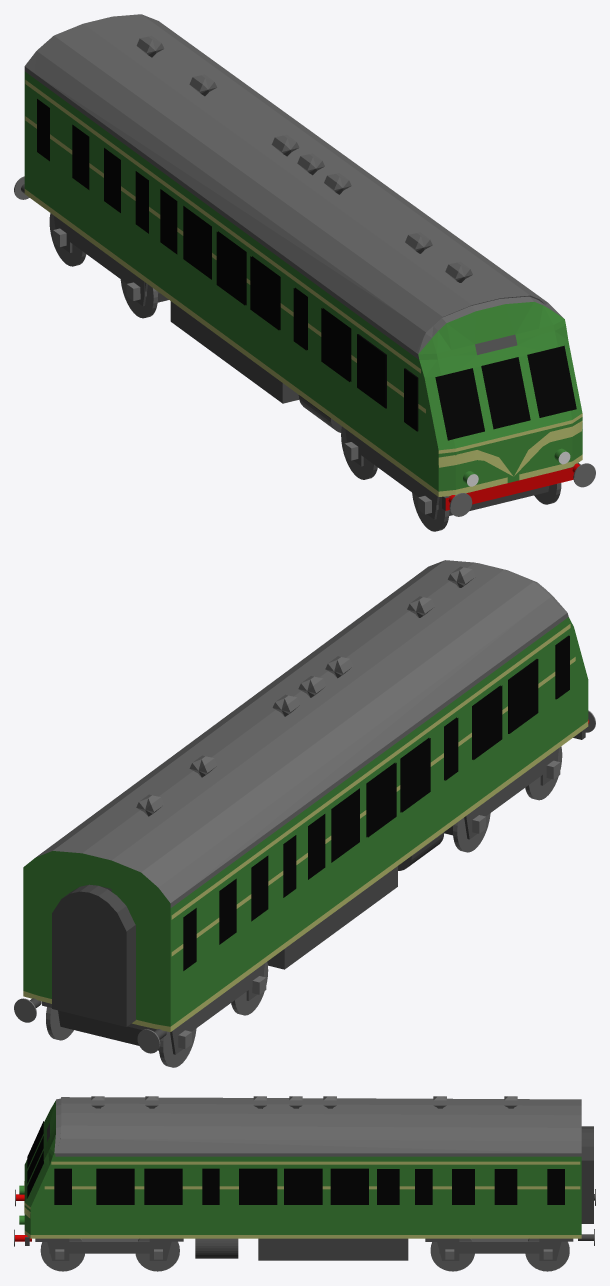
Rendered from BR-101-dmbs-g.dae.
3 renders of one model, top to bottom at view 1: azimuth 30°, elevation 25°; view 2: azimuth 150°, elevation 25°; view 3: azimuth 270°, elevation 25°, orthographic. The views are drawn at different scales.
Parts seen in each view (by area): view 1: BR-cl101-front_rear, Cube_001, Plane_003, Cube_063_002, Plane_032, Cube_043, Cube_043_001, Plane_002; view 2: BR-cl101-front_rear, Cube, Cube_001, Plane_003, Cube_060_001, Cube_043_001, Cube_043, Plane_002, Cylinder_008_001, Cylinder_008; view 3: BR-cl101-front_rear, Cube_001, Plane_004, Cube_043, Cube_043_001, Cube, Cylinder_002, Plane_001, Cylinder_011_001, Cylinder_011, Cylinder_010_001, Cylinder_010 (+4 smaller).
Boxes of the visible parts, <box> form: BR-cl101-front_rear: <box>24,14,582,496</box>; Cube_001: <box>170,301,298,403</box>; Plane_003: <box>25,80,420,373</box>; Cube_063_002: <box>442,463,580,510</box>; Plane_032: <box>438,420,582,476</box>; Cube_043: <box>361,441,438,509</box>; Cube_043_001: <box>70,227,159,296</box>; Plane_002: <box>25,116,425,413</box>; BR-cl101-front_rear: <box>23,560,588,1032</box>; Cube: <box>52,884,135,1026</box>; Cube_001: <box>267,866,397,969</box>; Plane_003: <box>171,624,570,919</box>; Cube_060_001: <box>42,1001,188,1054</box>; Cube_043_001: <box>188,964,263,1031</box>; Cube_043: <box>482,749,557,816</box>; Plane_002: <box>171,657,575,956</box>; Cylinder_008_001: <box>159,1028,196,1067</box>; Cylinder_008: <box>453,813,490,852</box>; BR-cl101-front_rear: <box>24,1096,581,1238</box>; Cube_001: <box>258,1238,408,1260</box>; Plane_004: <box>51,1161,580,1164</box>; Cube_043: <box>49,1238,168,1253</box>; Cube_043_001: <box>439,1238,557,1253</box>; Cube: <box>581,1126,593,1223</box>; Cylinder_002: <box>195,1238,238,1258</box>; Plane_001: <box>44,1186,580,1189</box>; Cylinder_011_001: <box>525,1238,569,1271</box>; Cylinder_011: <box>135,1238,179,1271</box>; Cylinder_010_001: <box>430,1238,474,1271</box>; Cylinder_010: <box>40,1238,84,1271</box>.
Size of the model in its own units: 2.04 by 10.32 by 3.05.
